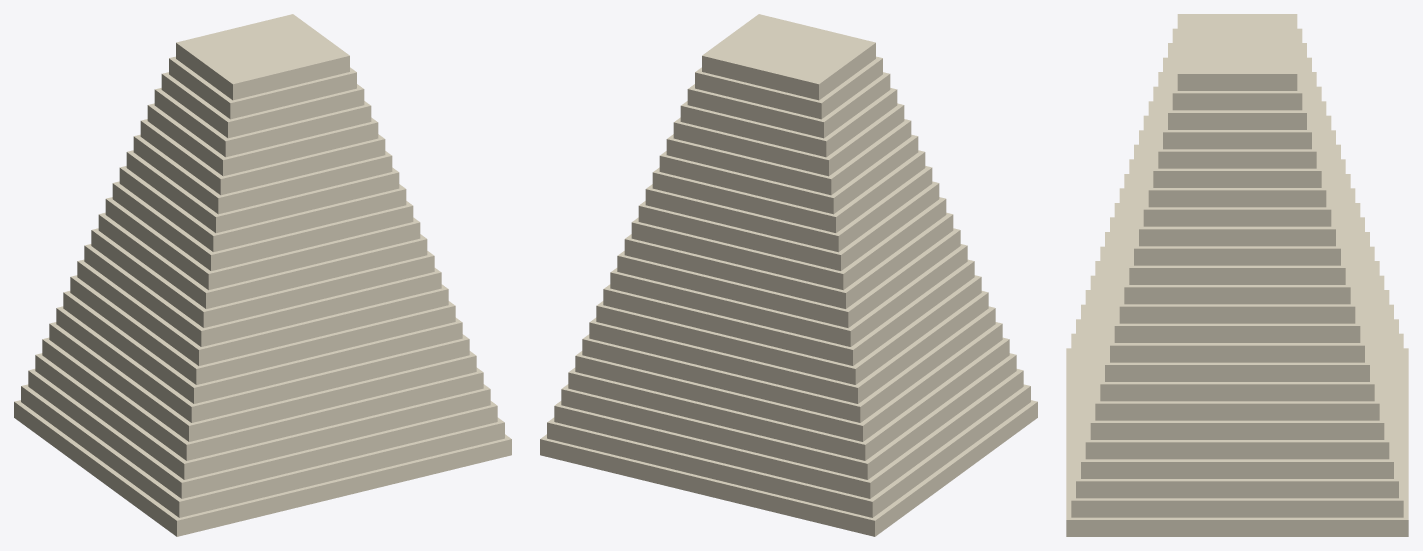
Rendered from place-mausoleum-at-halicarnassus.glb.
The picture shows the model from 3 angles, left to right: view 1: azimuth 30°, elevation 25°; view 2: azimuth 150°, elevation 25°; view 3: azimuth 270°, elevation 25°; orthographic projection. The views are drawn at different scales.
Visible parts, largest first — view 1: place-mausoleum-at-halicarnassus; view 2: place-mausoleum-at-halicarnassus; view 3: place-mausoleum-at-halicarnassus.
Boxes of the visible parts, <box> form: place-mausoleum-at-halicarnassus: <box>14,14,511,536</box>; place-mausoleum-at-halicarnassus: <box>540,14,1037,536</box>; place-mausoleum-at-halicarnassus: <box>1066,14,1408,536</box>.
Bounding box in the file's own units: 38 × 42 × 32.
